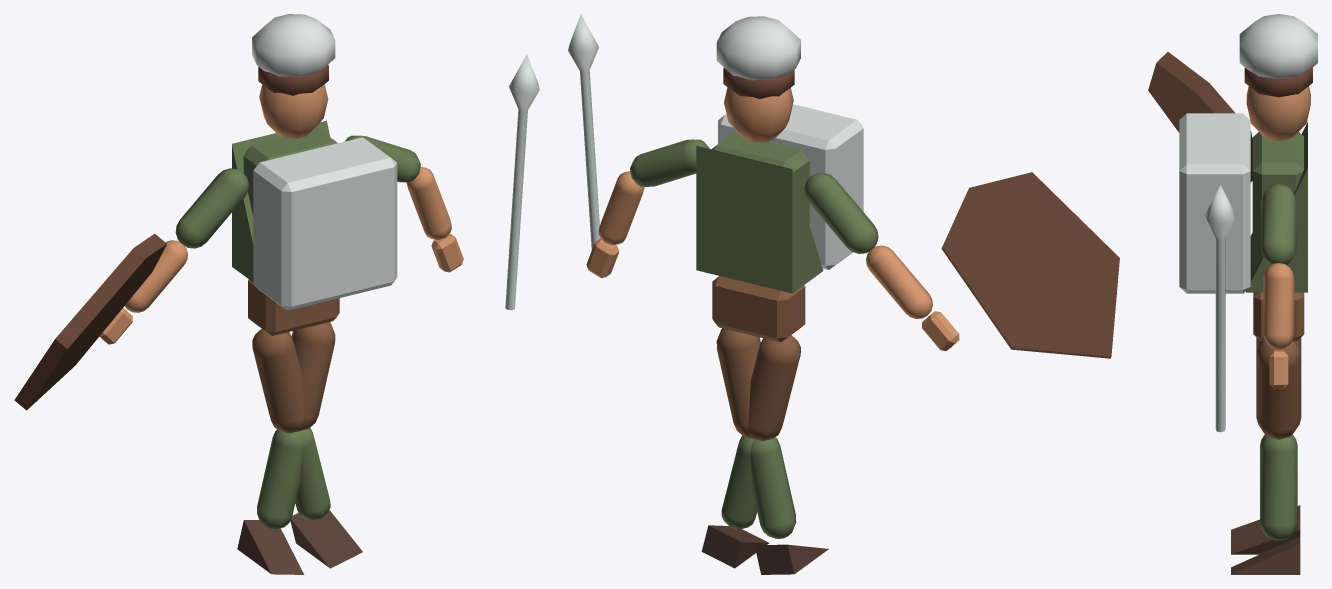
Rendered from adventurer.rustic.glb.
3 views of the same model, side by side, from view 1: azimuth 30°, elevation 25°; view 2: azimuth 150°, elevation 25°; view 3: azimuth 270°, elevation 25° (orthographic).
Parts seen in each view (by area): view 1: accessory.body, accessory.off-hand, accessory.head, thigh.left, shin.right, accessory.main-hand, upper-arm.left, thigh.right, head, pelvis, foot.left, tunic (+8 smaller); view 2: accessory.off-hand, tunic, accessory.body, pelvis, accessory.head, thigh.left, shin.right, upper-arm.left, thigh.right, accessory.main-hand, head, forearm.left (+9 smaller); view 3: accessory.body, accessory.head, shin.left, accessory.off-hand, thigh.right, torso, accessory.main-hand, upper-arm.right, head, forearm.right, tunic, foot.left (+4 smaller).
Part boxes in pixels (x1=…): accessory.body: x1=253, y1=137, x2=397, y2=310; accessory.off-hand: x1=14, y1=233, x2=166, y2=410; accessory.head: x1=252, y1=14, x2=335, y2=77; thigh.left: x1=252, y1=328, x2=303, y2=433; shin.right: x1=257, y1=429, x2=302, y2=529; accessory.main-hand: x1=505, y1=54, x2=539, y2=310; upper-arm.left: x1=175, y1=168, x2=248, y2=248; thigh.right: x1=291, y1=322, x2=335, y2=430; head: x1=259, y1=84, x2=328, y2=138; pelvis: x1=248, y1=279, x2=339, y2=335; foot.left: x1=290, y1=510, x2=362, y2=568; tunic: x1=232, y1=120, x2=330, y2=281; accessory.off-hand: x1=941, y1=172, x2=1119, y2=358; tunic: x1=696, y1=146, x2=823, y2=293; accessory.body: x1=718, y1=104, x2=863, y2=269; pelvis: x1=712, y1=276, x2=805, y2=342; accessory.head: x1=716, y1=16, x2=800, y2=80; thigh.left: x1=748, y1=335, x2=800, y2=440; shin.right: x1=750, y1=437, x2=796, y2=538; upper-arm.left: x1=804, y1=172, x2=878, y2=253; thigh.right: x1=716, y1=328, x2=760, y2=438; accessory.main-hand: x1=568, y1=14, x2=600, y2=249; head: x1=724, y1=87, x2=793, y2=142; forearm.left: x1=866, y1=245, x2=932, y2=318; accessory.body: x1=1179, y1=113, x2=1250, y2=293; accessory.head: x1=1239, y1=14, x2=1317, y2=78; shin.left: x1=1260, y1=435, x2=1297, y2=540; accessory.off-hand: x1=1148, y1=52, x2=1252, y2=182; thigh.right: x1=1256, y1=341, x2=1301, y2=439; torso: x1=1252, y1=132, x2=1303, y2=270; accessory.main-hand: x1=1205, y1=185, x2=1236, y2=432; upper-arm.right: x1=1261, y1=184, x2=1296, y2=265; head: x1=1246, y1=86, x2=1310, y2=140; forearm.right: x1=1263, y1=263, x2=1294, y2=349; tunic: x1=1246, y1=122, x2=1307, y2=292; foot.left: x1=1231, y1=536, x2=1300, y2=574.
Size of the model in its own units: 3.29 by 3.18 by 0.9041.
